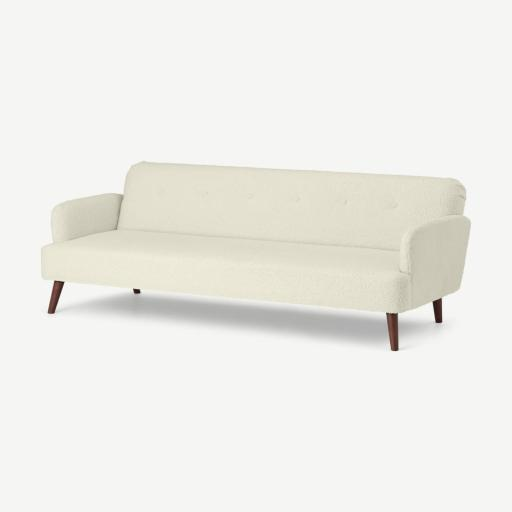back_cushion: (118, 162, 466, 250)
left_arm: (400, 215, 470, 322)
legs: (48, 282, 63, 313), (387, 313, 397, 351), (432, 298, 442, 323), (133, 289, 140, 294)
one-seater: (42, 162, 470, 350)
right_arm: (52, 194, 123, 242)
seat_cushion: (43, 230, 411, 313)
